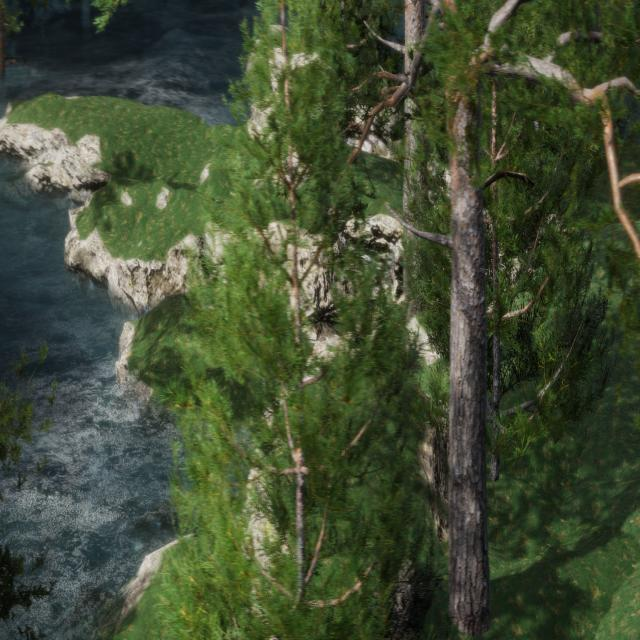Human: (365, 243, 385, 335)
